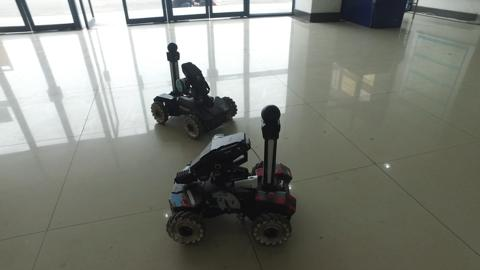chariot: (160, 101, 309, 252), (147, 40, 239, 149)
